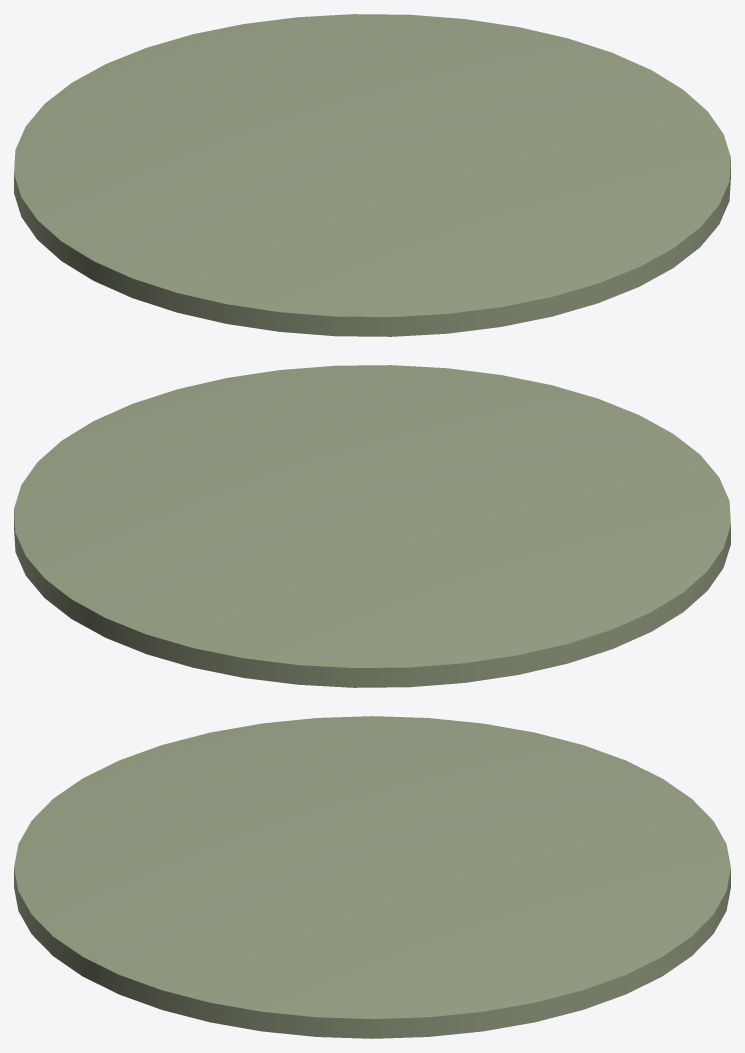
File: original-148.obj
The picture shows the model from 3 angles, top to bottom: view 1: azimuth 30°, elevation 25°; view 2: azimuth 150°, elevation 25°; view 3: azimuth 270°, elevation 25°; orthographic projection.
Parts seen in each view (by area): view 1: Group_78_5/mesh265/mesh265-geometry#mesh265-geometry; view 2: Group_78_5/mesh265/mesh265-geometry#mesh265-geometry; view 3: Group_78_5/mesh265/mesh265-geometry#mesh265-geometry.
Boxes of the visible parts, bbox=[...] form: Group_78_5/mesh265/mesh265-geometry#mesh265-geometry: bbox=[14, 14, 730, 336]; Group_78_5/mesh265/mesh265-geometry#mesh265-geometry: bbox=[14, 365, 730, 687]; Group_78_5/mesh265/mesh265-geometry#mesh265-geometry: bbox=[14, 716, 730, 1038].
Bounding box in the file's own units: 0.1366 × 0.00828 × 0.1366.
